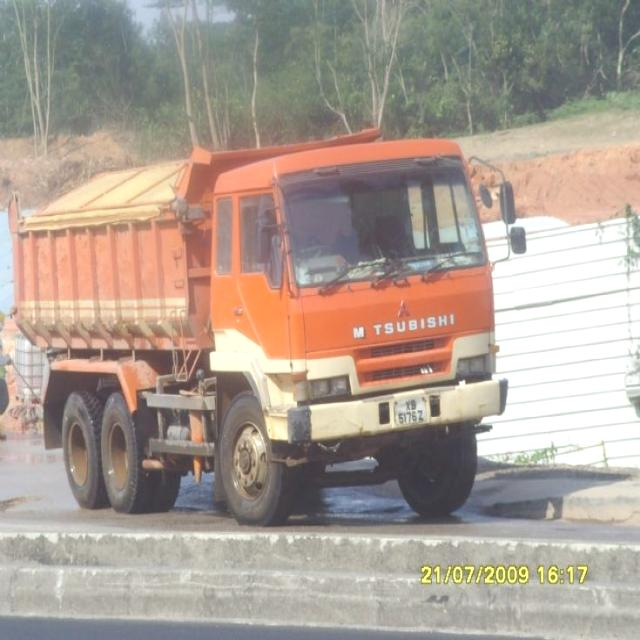truck: (8, 128, 516, 527)
